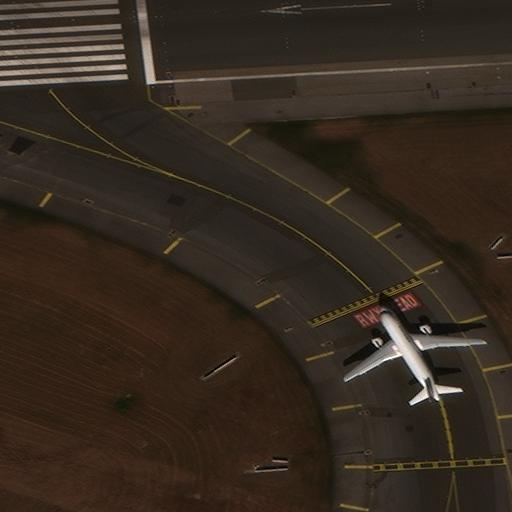Medium Civil Transport: (343, 305, 482, 401)
